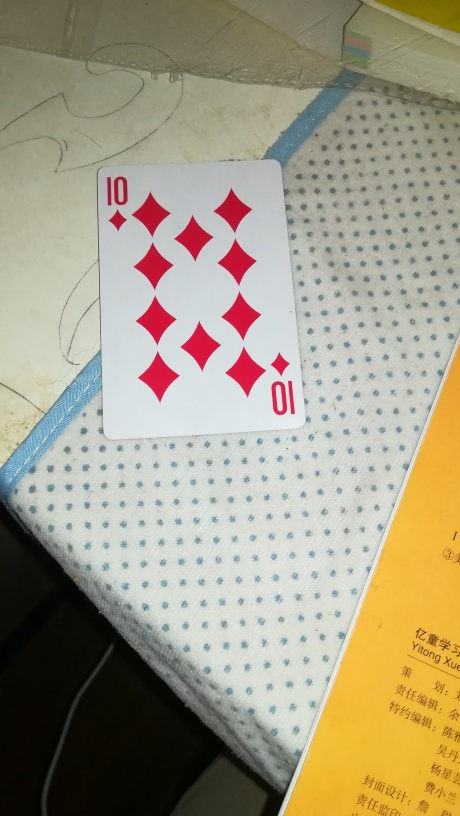fk 10: (98, 162, 306, 439)
